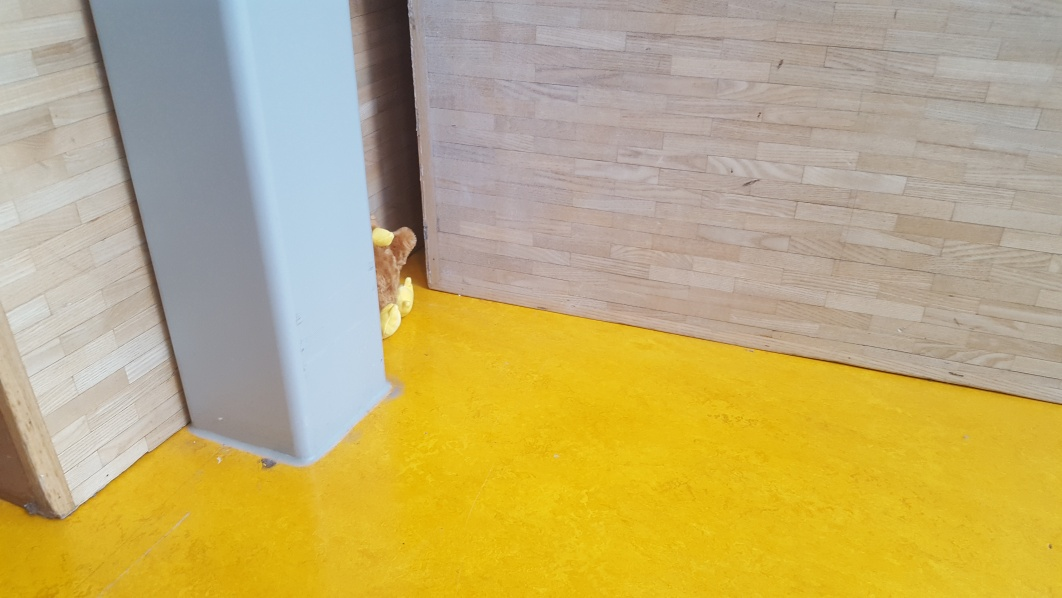chicken: (371, 217, 420, 346)
